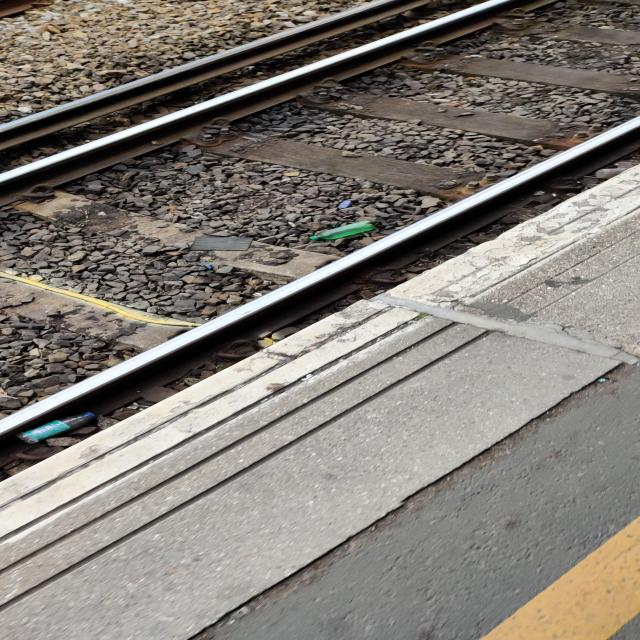litter: (309, 221, 375, 240)
